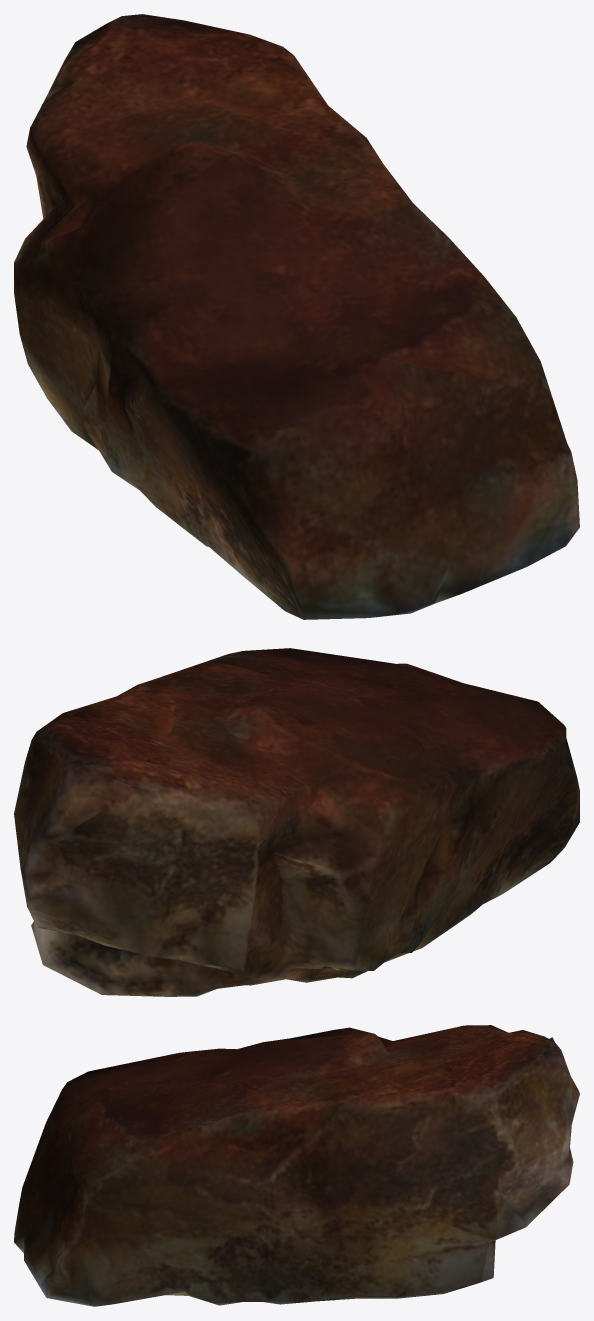
Rendered from rock_07.glb.
3 renders of one model, top to bottom at view 1: azimuth 30°, elevation 25°; view 2: azimuth 150°, elevation 25°; view 3: azimuth 270°, elevation 25°, orthographic. The views are drawn at different scales.
Parts seen in each view (by area): view 1: rock_07; view 2: rock_07; view 3: rock_07.
Part boxes in pixels (x1,y1,x2,y2): rock_07: [14, 14, 579, 619]; rock_07: [14, 648, 579, 996]; rock_07: [14, 1025, 579, 1306].
Bounding box in the file's own units: 0.1675 × 0.1434 × 0.3194.
1 material, 1 textured.
